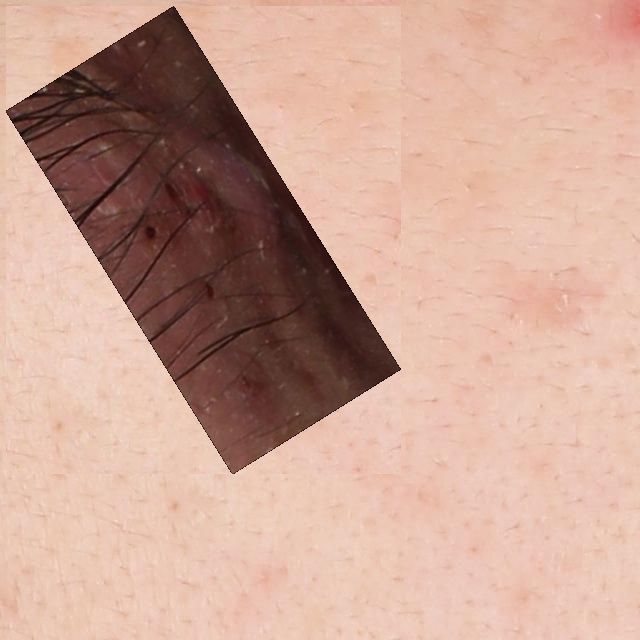nodule: (17, 17, 390, 463)
